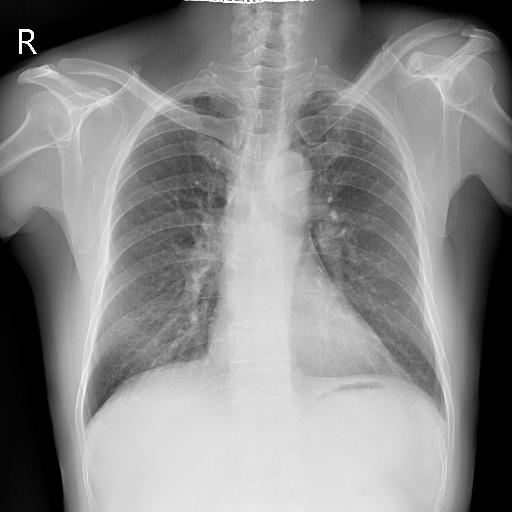Aortic enlargement: (237, 124, 288, 176)
Cardiomegaly: (114, 293, 302, 355)
Pleural thickening: (274, 80, 328, 94), (153, 84, 209, 93)
Pulmonary fibrosis: (350, 327, 392, 363), (358, 113, 364, 135)
